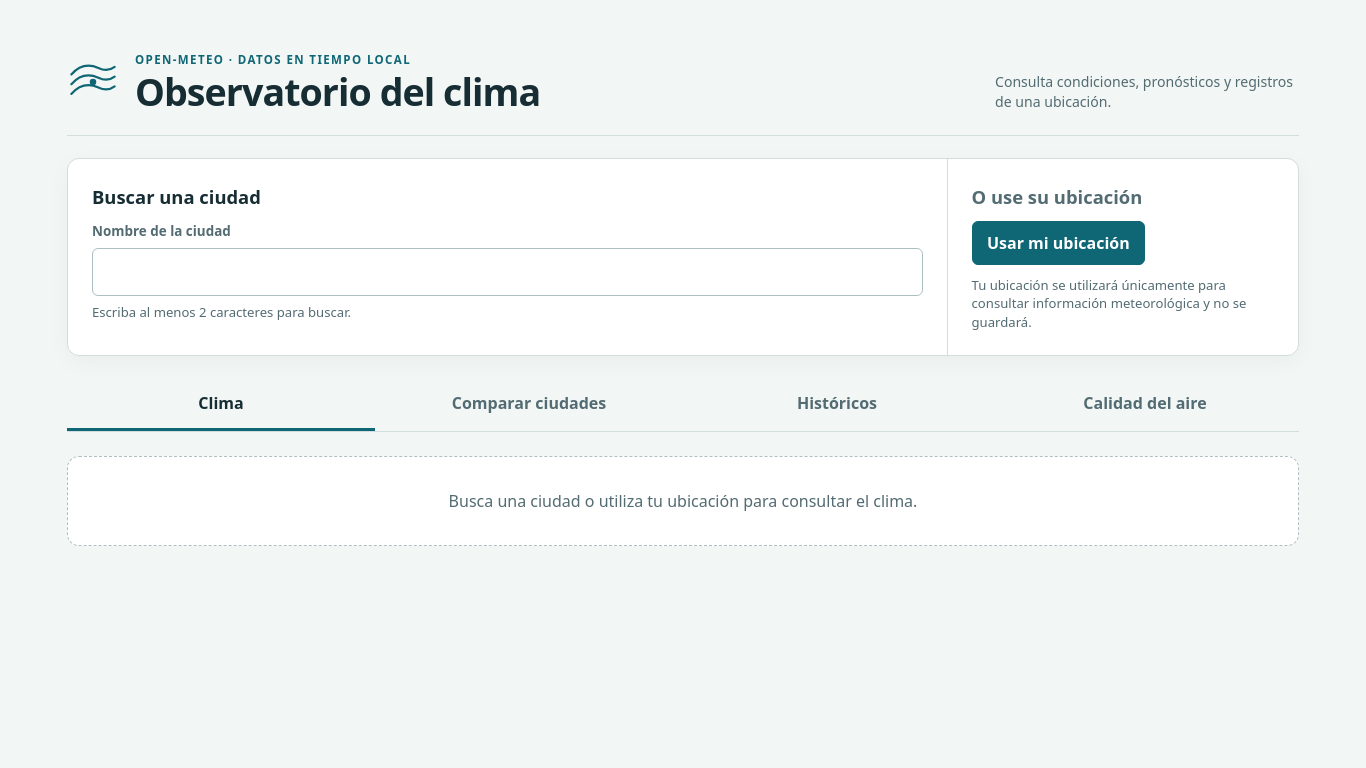
Test: RF-03: geolocalización del navegador › maneja permiso denegado sin revelar el detalle del navegador ni reintentar solo
The image size is (1366, 768).
Click the button "Usar mi ubicación". click: (1058, 243)
box: 972,221 -> 1145,265
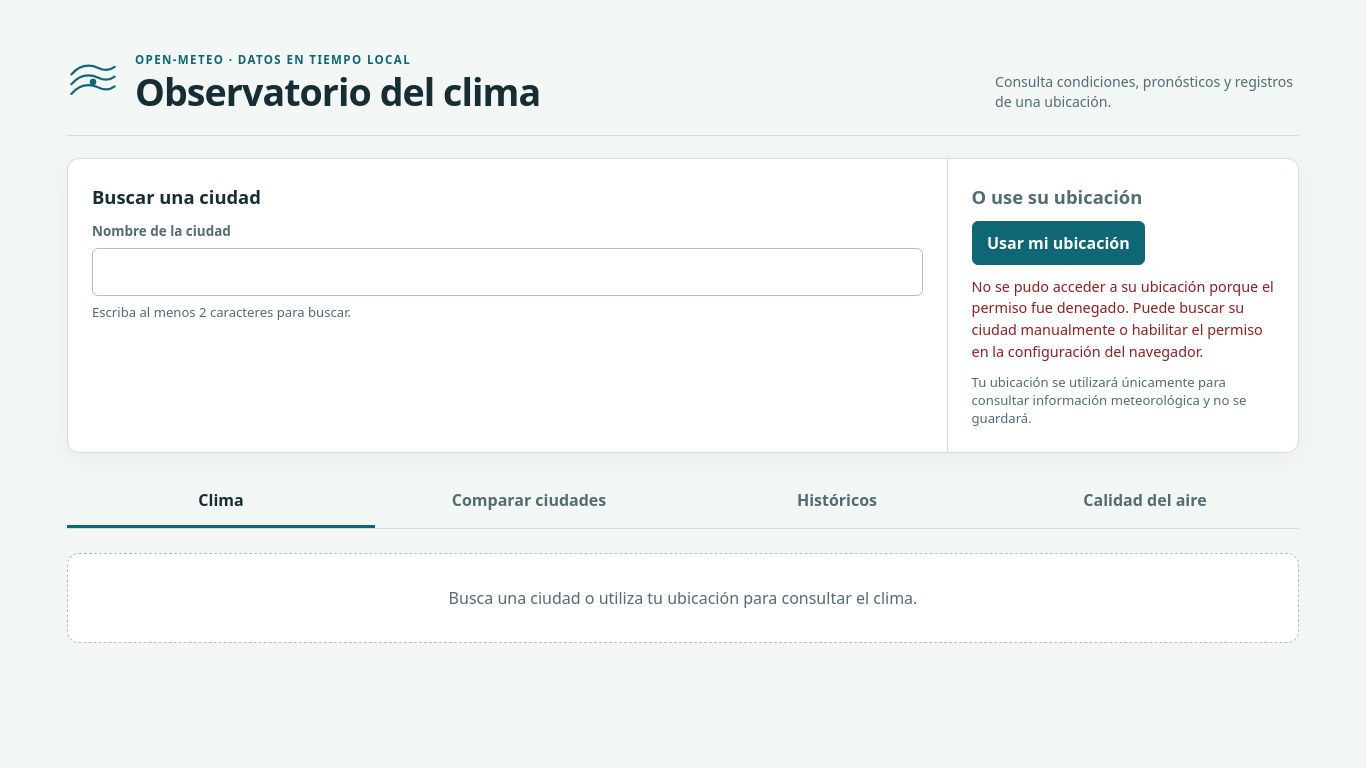
Expected: the dropdown labelled "Nombre de la ciudad" is shown, 92,248 -> 923,296
Expected: the message shows "No se pudo acceder a su ubicación porque el permiso fue denegado. Puede buscar su ciudad manualmente o habilitar el permiso en la configuración del navegador.", 972,277 -> 1274,361
